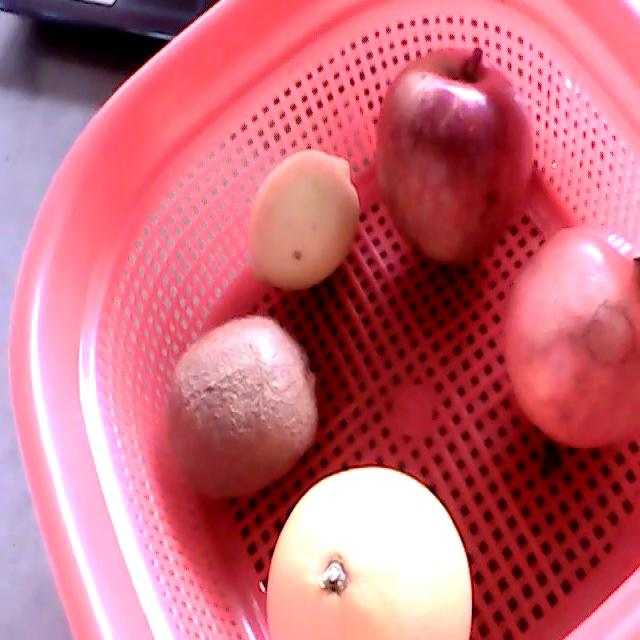apple: (376, 46, 535, 265)
kiwi: (165, 317, 319, 498)
lemon: (250, 153, 360, 291)
orange: (266, 467, 473, 639)
pomegranate: (500, 227, 639, 447)
